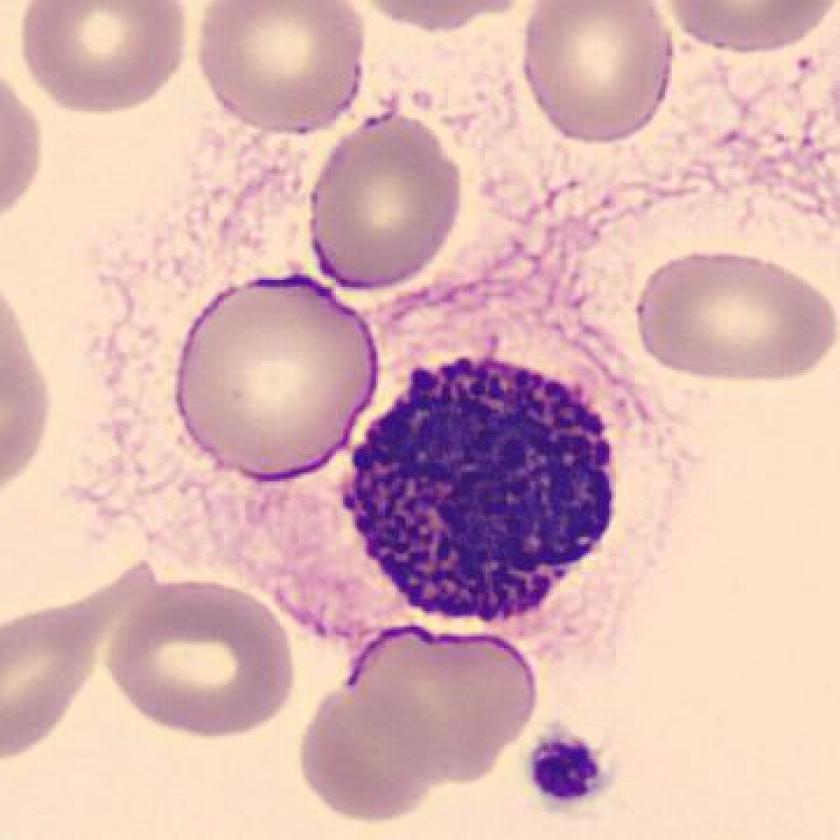basophil: (342, 337, 633, 645)
